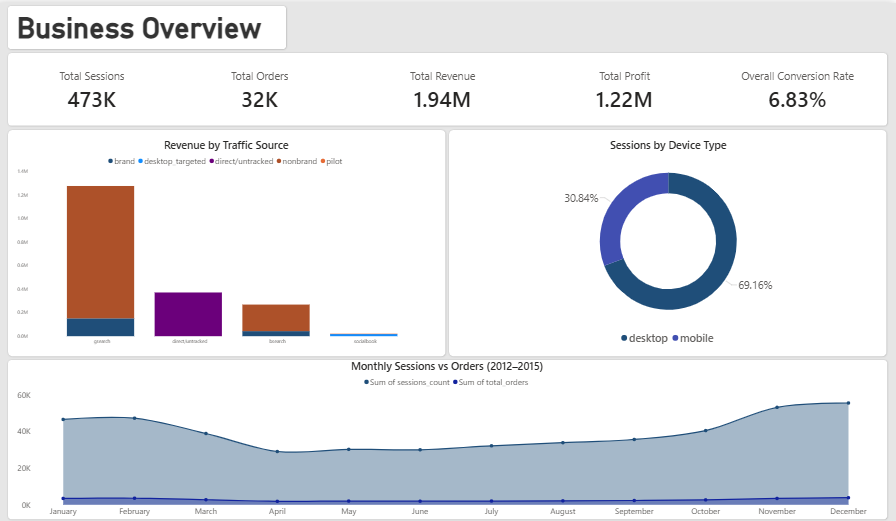

This screenshot's page, from the dashboard's own definition file:
{"tool":"powerbi","page":{"name":"Business Overview","canvas":[2250,1300],"ordinal":0},"visuals":[{"type":"shape","box":[24,120,2208,192],"z":0},{"type":"cardVisual","fields":{"Data":["_Measures.Total Sessions"]},"box":[48,144,384,144],"z":1000,"group":"g1"},{"type":"shape","box":[24,888,2208,408],"z":1000},{"type":"group","id":"g1","title":"Group 1","box":[48,144,2160,144],"z":2000},{"type":"cardVisual","fields":{"Data":["_Measures.Total Orders"]},"box":[456,144,408,144],"z":2000,"group":"g1"},{"type":"cardVisual","fields":{"Data":["_Measures.Total Revenue"]},"box":[912,144,408,144],"z":3000,"group":"g1"},{"type":"shape","box":[24,312,1104,576],"z":3000},{"type":"cardVisual","fields":{"Data":["_Measures.Total Profit"]},"box":[1368,144,408,144],"z":4000,"group":"g1"},{"type":"columnChart","title":"Revenue by Traffic Source","fields":{"Category":["01_traffic_acquisition.utm_source"],"Y":["Sum(01_traffic_acquisition.total_revenue)"],"Series":["01_traffic_acquisition.utm_campaign"]},"box":[48,336,1056,528],"z":4000},{"type":"cardVisual","fields":{"Data":["_Measures.Overall Conversion Rate"]},"box":[1800,144,408,144],"z":5000,"group":"g1"},{"type":"shape","box":[1128,312,1104,576],"z":5000},{"type":"donutChart","title":"Sessions by Device Type","fields":{"Category":["01_traffic_acquisition.device_type"],"Y":["Sum(01_traffic_acquisition.sessions_count)"]},"box":[1152,336,1056,528],"z":6000},{"type":"areaChart","title":"Monthly Sessions vs Orders (2012–2015)","fields":{"Category":["04_monthly_trend.session_months.Variation.Date Hierarchy.Month"],"Y":["Sum(04_monthly_trend.sessions_count)","Sum(04_monthly_trend.total_orders)"]},"box":[48,888,2160,408],"z":7000},{"type":"shape","box":[25,2.5,705,117.5],"z":7500},{"type":"textbox","box":[47.5,15,640,95],"z":8000}]}

Visuals, with their boxes in screenshot pixels (x1, y1, x2, y2), scaled from the page's 2250x1300 canvas onto the 896x521 screenshot:
shape: detection(10, 48, 889, 125)
cardVisual - _Measures.Total Sessions: detection(19, 58, 172, 115)
shape: detection(10, 356, 889, 519)
"Group 1" group: detection(19, 58, 879, 115)
cardVisual - _Measures.Total Orders: detection(182, 58, 344, 115)
cardVisual - _Measures.Total Revenue: detection(363, 58, 526, 115)
shape: detection(10, 125, 449, 356)
cardVisual - _Measures.Total Profit: detection(545, 58, 707, 115)
"Revenue by Traffic Source" columnChart: detection(19, 135, 440, 346)
cardVisual - _Measures.Overall Conversion Rate: detection(717, 58, 879, 115)
shape: detection(449, 125, 889, 356)
"Sessions by Device Type" donutChart: detection(459, 135, 879, 346)
"Monthly Sessions vs Orders (2012–2015)" areaChart: detection(19, 356, 879, 519)
shape: detection(10, 1, 291, 48)
textbox: detection(19, 6, 274, 44)
